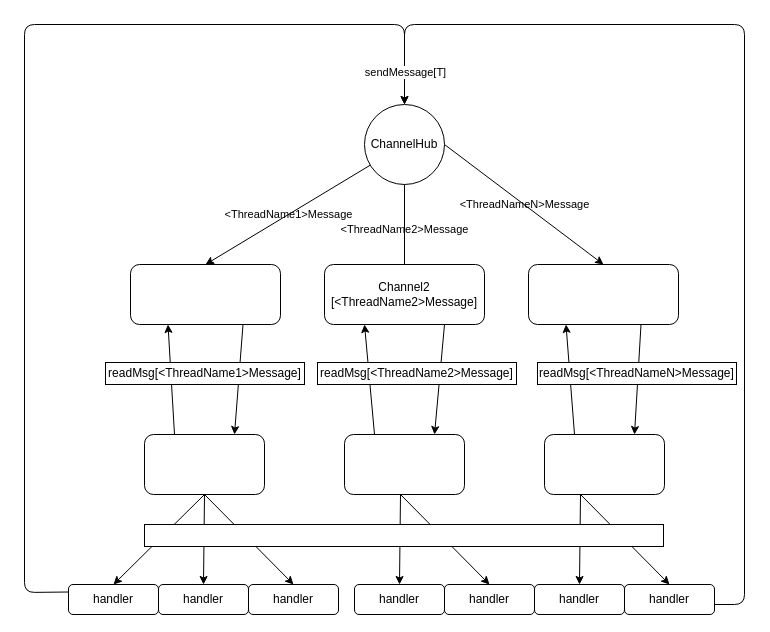
This 770x632 diagram has some shape labels left out. The shapes that lost their labels are listed below. From the top down, each one's centre as x and y in pixels, then its label:
At [205,294]: "Channel1 [<ThreadName1>Message]".
At [603,294]: "ChannelN [<ThreadNameN>Message]".
At [204,464]: "Thread1".
At [404,464]: "Thread2".
At [604,464]: "ThreadN".
At [404,535]: "routeMessage".
